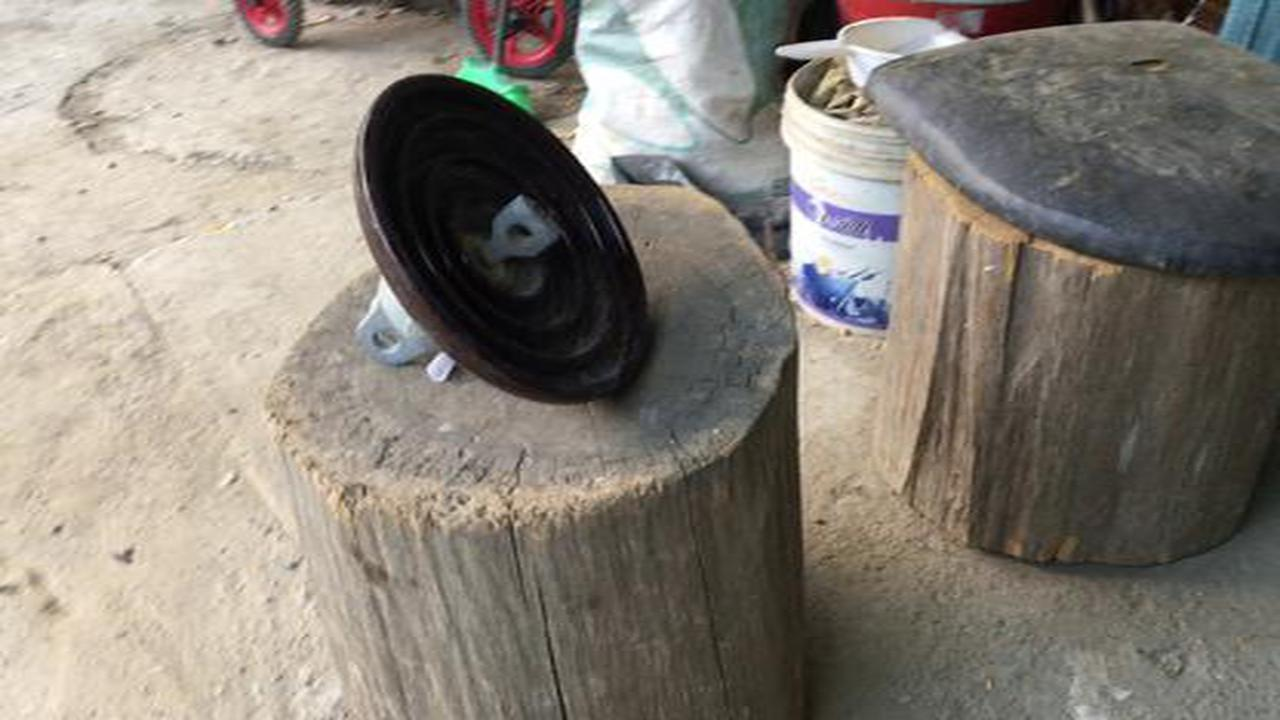insulator_disc: (349, 67, 660, 411)
